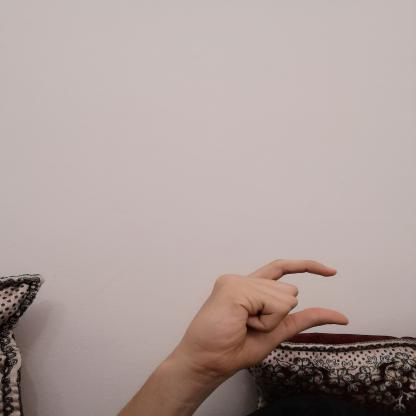DELL: (176, 251, 356, 379)
